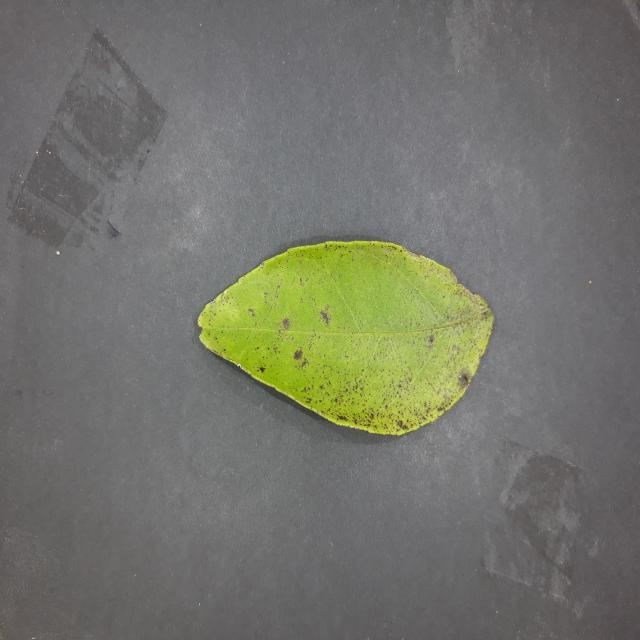greasy_spot: (198, 241, 493, 435)
